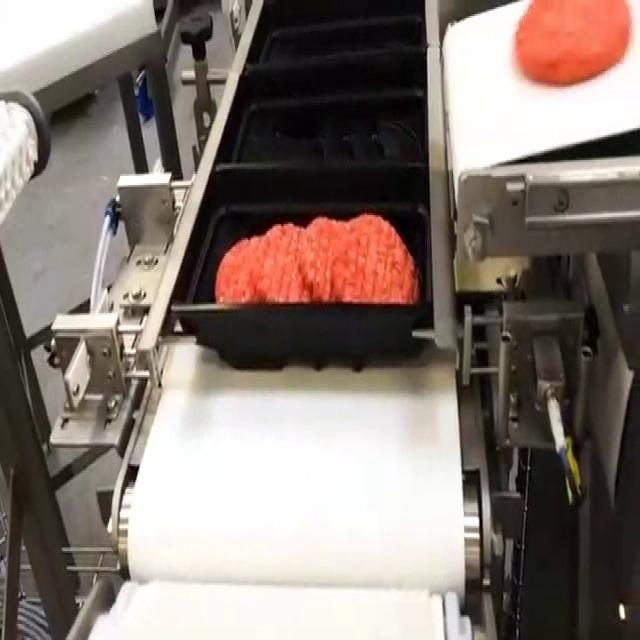4-hamburguer: (214, 213, 418, 304)
